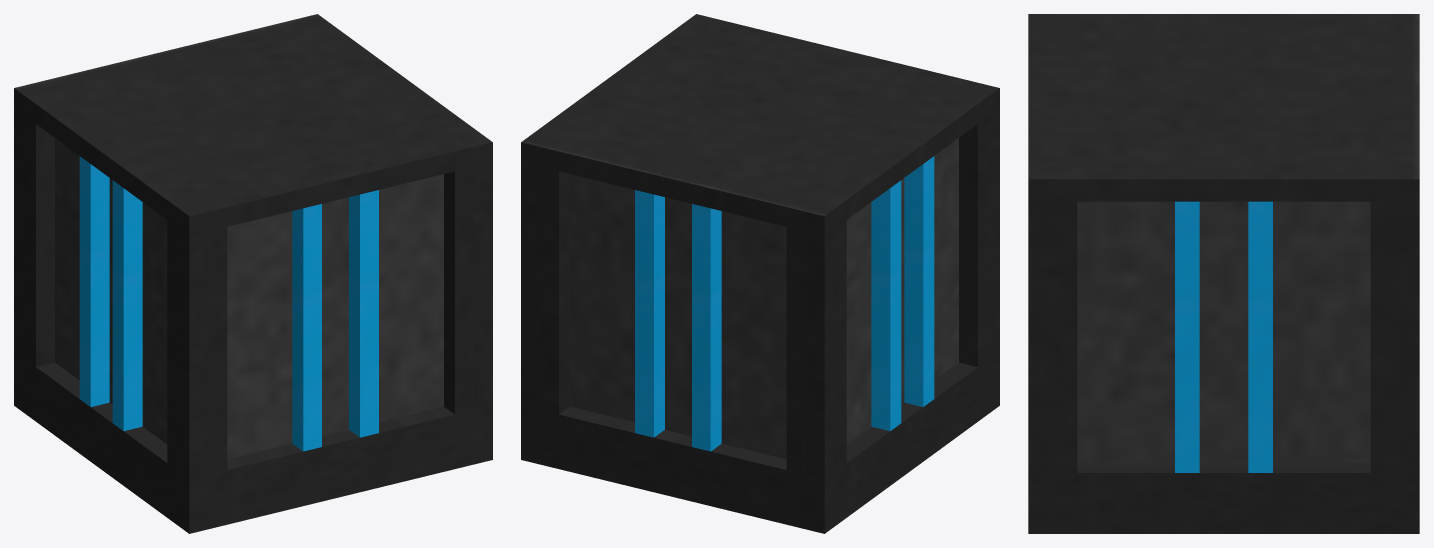
File: fortronCapacitor.obj
3 renders of one model, left to right at view 1: azimuth 30°, elevation 25°; view 2: azimuth 150°, elevation 25°; view 3: azimuth 270°, elevation 25°, orthographic. The views are drawn at different scales.
Parts seen in each view (by area): view 1: cube; view 2: cube; view 3: cube.
Boxes of the visible parts, x1,y1,x2,y2 form: cube: (14, 14, 492, 533); cube: (521, 14, 999, 533); cube: (1028, 14, 1419, 533).
Bounding box in the file's own units: 16 × 16 × 16.
